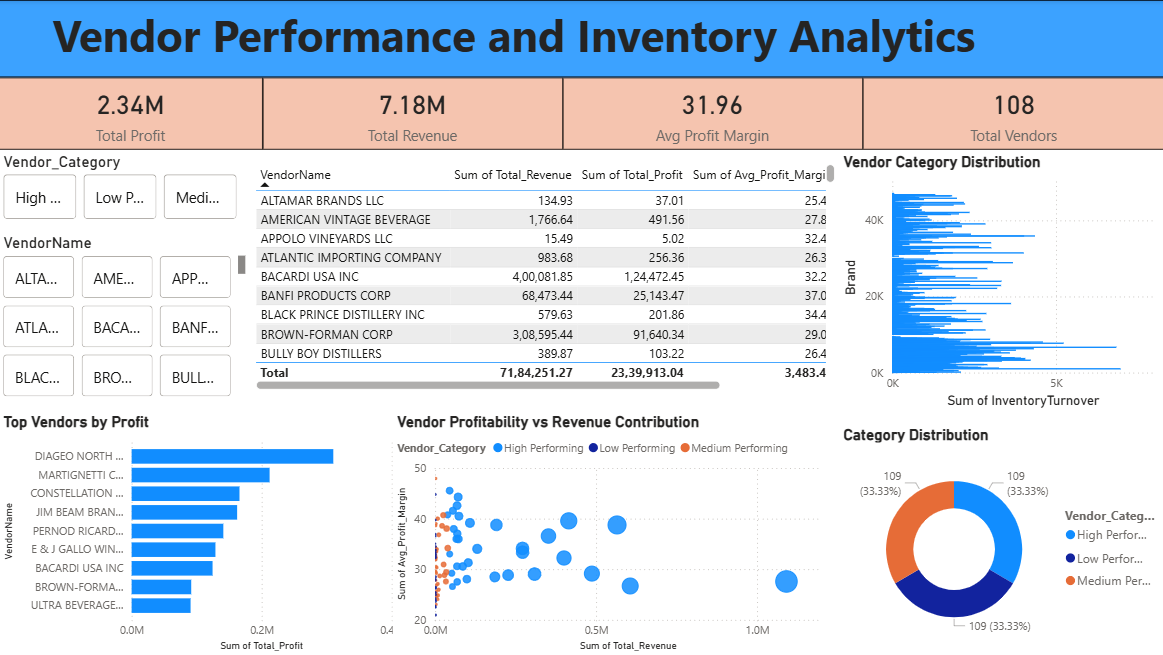

What the dashboard file says about the page in this screenshot:
{"tool":"powerbi","page":{"name":"Page 1","canvas":[1280,720],"ordinal":0},"visuals":[{"type":"card","fields":{"Values":["vendor_scorecard_final.Total Revenue"]},"box":[289.5,85.1,329.3,79.6],"z":0},{"type":"card","fields":{"Values":["vendor_scorecard_final.Total Profit"]},"box":[0,85.1,289.5,79.6],"z":1000},{"type":"card","fields":{"Values":["vendor_scorecard_final.Avg Profit Margin"]},"box":[618.9,85.1,329.3,79.6],"z":2000},{"type":"card","fields":{"Values":["vendor_scorecard_final.Total Vendors"]},"box":[948.2,85.1,332.1,79.6],"z":3000},{"type":"barChart","title":"Top Vendors by Profit","fields":{"Category":["vendor_scorecard_final.VendorName"],"Y":["Sum(vendor_scorecard_final.Total_Profit)"]},"box":[0,452.8,458.3,267.6],"z":4000},{"type":"clusteredBarChart","title":"Vendor Category Distribution","fields":{"Category":["inventory_turnover_final.Brand"],"Y":["Sum(inventory_turnover_final.InventoryTurnover)"]},"box":[922.1,167.4,358.1,285.4],"z":5000},{"type":"advancedSlicerVisual","fields":{"Values":["vendor_scorecard_final.Vendor_Category"]},"box":[0,167.4,266.2,78.2],"z":6000},{"type":"advancedSlicerVisual","fields":{"Values":["vendor_scorecard_final.VendorName"]},"box":[0,256.6,275.8,183.9],"z":7000},{"type":"tableEx","fields":{"Values":["vendor_scorecard_final (2).VendorName","Sum(vendor_scorecard_final (2).Total_Revenue)","Sum(vendor_scorecard_final (2).Total_Profit)","Sum(vendor_scorecard_final (2).Avg_Profit_Margin)","vendor_scorecard_final (2).Vendor_Category"]},"box":[275.8,175.6,646.3,256.6],"z":8000},{"type":"scatterChart","title":"Vendor Profitability vs Revenue Contribution","fields":{"X":["Sum(vendor_scorecard_final (2).Total_Revenue)"],"Y":["Sum(vendor_scorecard_final (2).Avg_Profit_Margin)"],"Size":["Sum(vendor_scorecard_final (2).Total_Profit)"],"Series":["vendor_scorecard_final (2).Vendor_Category"],"Category":["vendor_scorecard_final (2).VendorName"]},"box":[432.2,452.8,489.9,267.6],"z":9000},{"type":"donutChart","title":"Category Distribution","fields":{"Category":["vendor_scorecard_final.Vendor_Category"],"Y":["CountNonNull(vendor_scorecard_final (2).VendorName)"]},"box":[922.1,466.6,358.1,253.9],"z":10000},{"type":"textbox","box":[0,0,1280.3,85.1],"z":11000}]}

Visuals, with their boxes in screenshot pixels (x1, y1, x2, y2), scaled from the page's 1280x720 canvas onto the 1163x655 screenshot:
card - vendor_scorecard_final.Total Revenue: region(263, 77, 562, 150)
card - vendor_scorecard_final.Total Profit: region(0, 77, 263, 150)
card - vendor_scorecard_final.Avg Profit Margin: region(562, 77, 862, 150)
card - vendor_scorecard_final.Total Vendors: region(862, 77, 1162, 150)
"Top Vendors by Profit" barChart: region(0, 412, 416, 654)
"Vendor Category Distribution" clusteredBarChart: region(838, 152, 1162, 412)
advancedSlicerVisual - vendor_scorecard_final.Vendor_Category: region(0, 152, 242, 223)
advancedSlicerVisual - vendor_scorecard_final.VendorName: region(0, 233, 251, 401)
tableEx - vendor_scorecard_final (2).VendorName x Sum(vendor_scorecard_final (2).Total_Revenue): region(251, 160, 838, 393)
"Vendor Profitability vs Revenue Contribution" scatterChart: region(393, 412, 838, 654)
"Category Distribution" donutChart: region(838, 424, 1162, 654)
textbox: region(0, 0, 1162, 77)
